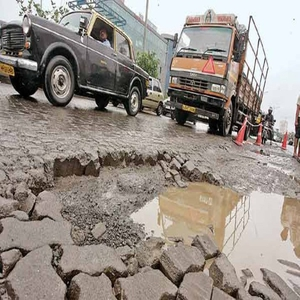pothole: (52, 149, 299, 286)
